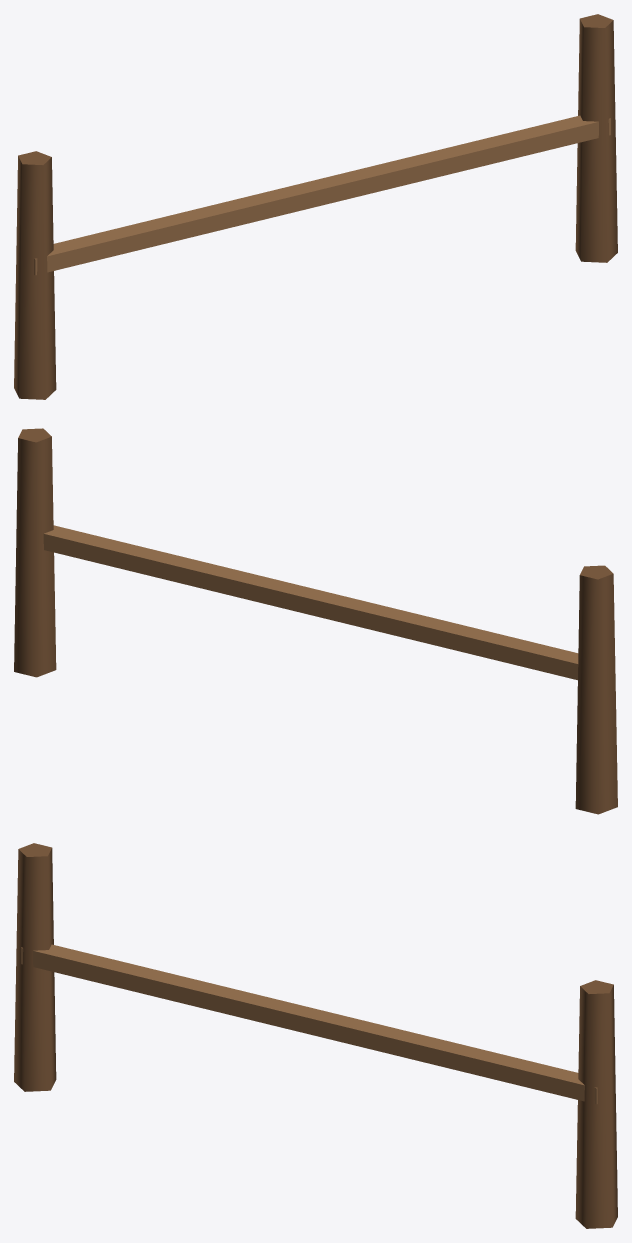
The model's file is fence_low.glb.
3 views of the same model, one above another, from view 1: azimuth 30°, elevation 25°; view 2: azimuth 150°, elevation 25°; view 3: azimuth 330°, elevation 25° (orthographic).
Size of the model in its own units: 3.09 by 1.15 by 0.1809.
